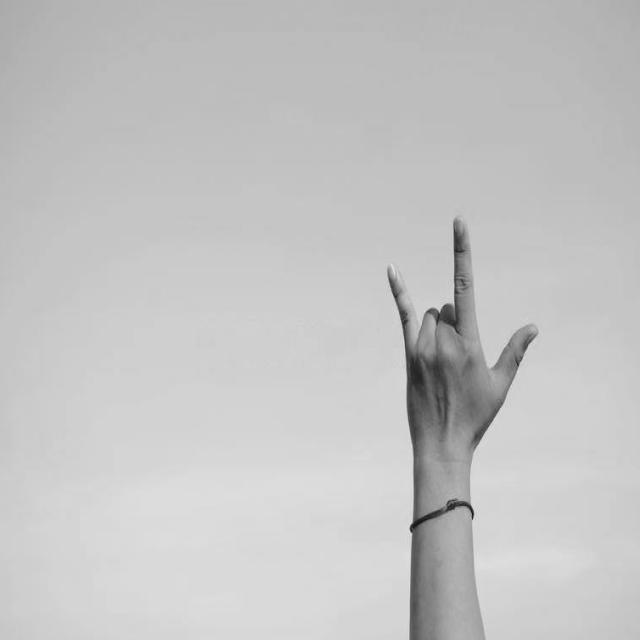i love you: (379, 207, 542, 480)
